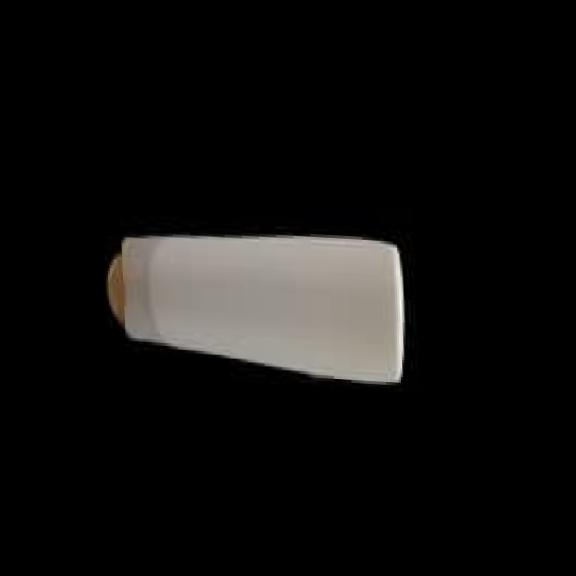Plastik: (106, 237, 403, 383)
